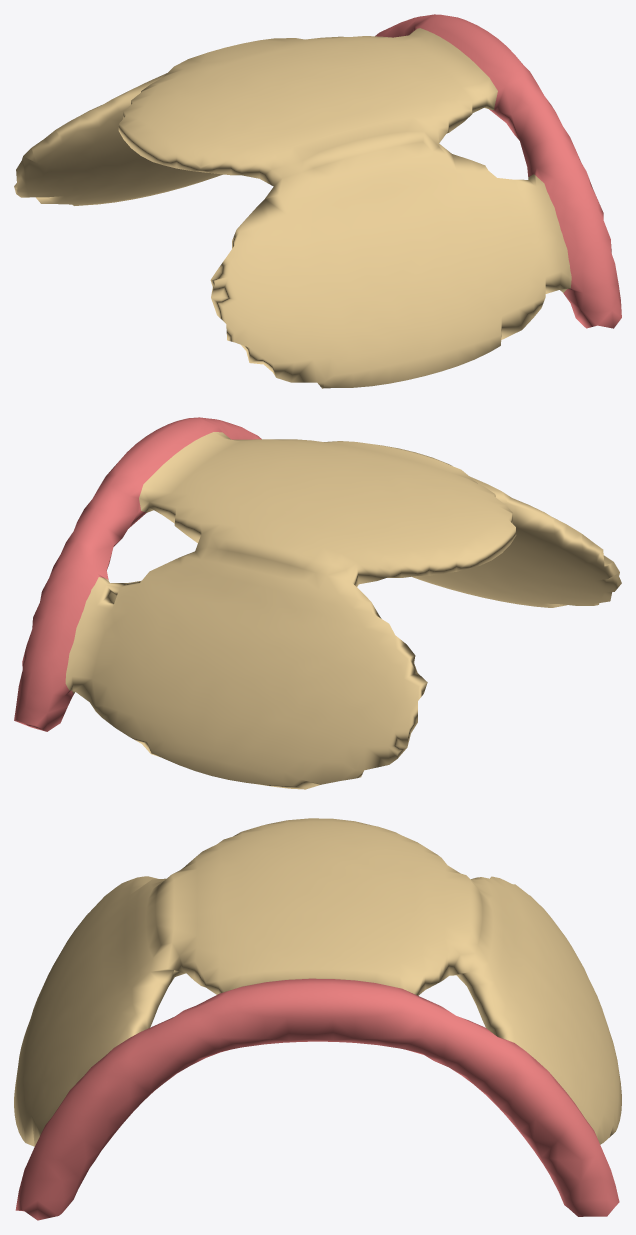
File: acc_cape.glb
The picture shows the model from 3 angles, top to bottom: view 1: azimuth 30°, elevation 25°; view 2: azimuth 150°, elevation 25°; view 3: azimuth 270°, elevation 25°; orthographic projection. The views are drawn at different scales.
Visible parts, largest first — view 1: body; view 2: body; view 3: body.
Part boxes in pixels (x1=…): body: x1=14, y1=14, x2=621, y2=388; body: x1=14, y1=417, x2=621, y2=789; body: x1=14, y1=818, x2=621, y2=1220.
Size of the model in its own units: 0.6549 by 0.3344 by 0.7935.
